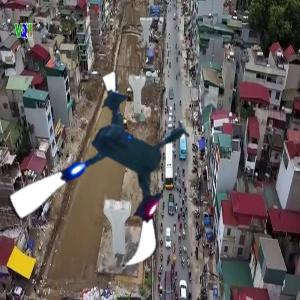drone: (9, 76, 213, 280)
